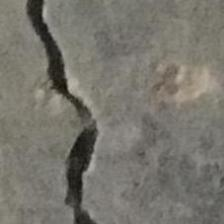Crack: (9, 0, 97, 224)
